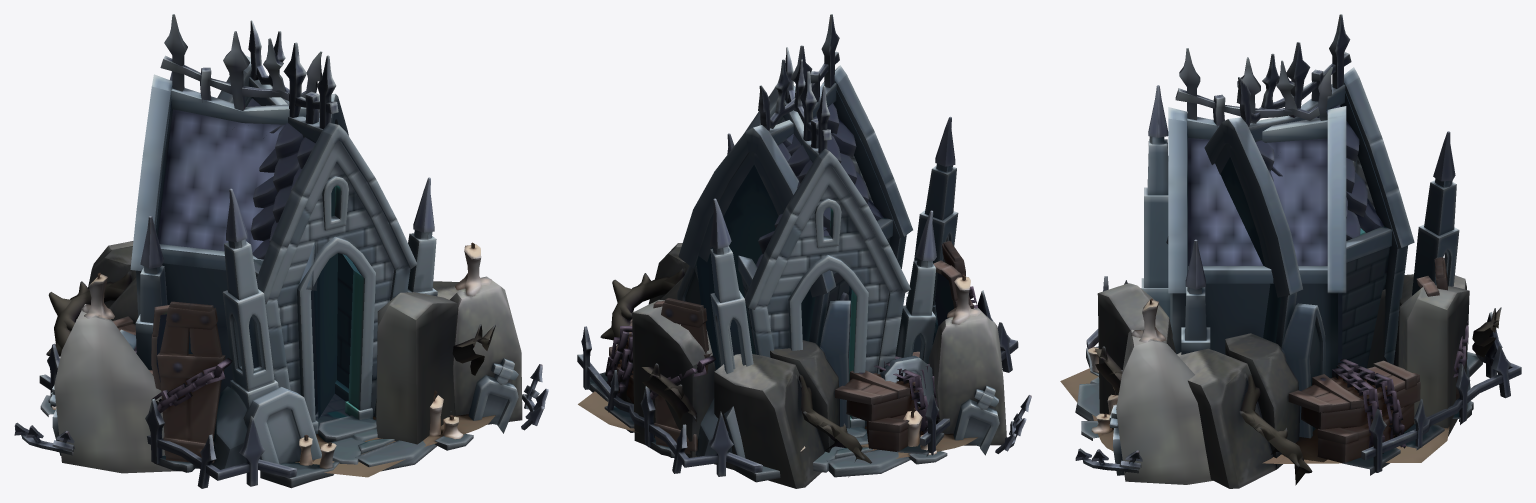
The model's file is world_shiguiqinxi.glb.
3 renders of one model, left to right at view 1: azimuth 30°, elevation 25°; view 2: azimuth 150°, elevation 25°; view 3: azimuth 270°, elevation 25°, orthographic. The views are drawn at different scales.
Size of the model in its own units: 2.88 by 2.4 by 2.69.
Materials: 2 (2 with a texture image).
